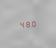eight: (25, 20, 30, 27)
four: (18, 20, 23, 28)
zero: (31, 19, 36, 27)
